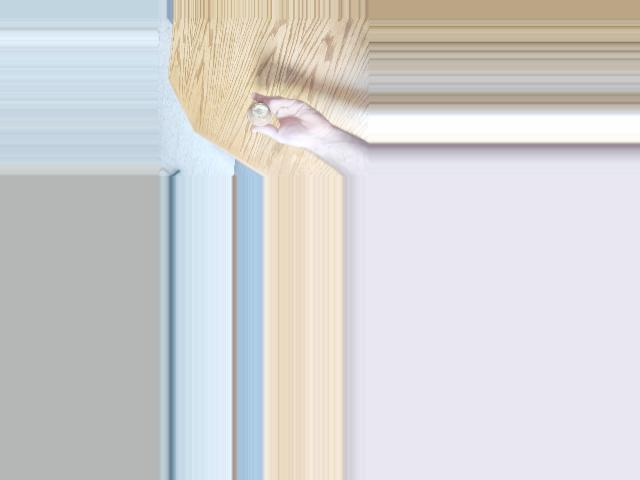sweet_potato: (246, 103, 268, 129)
